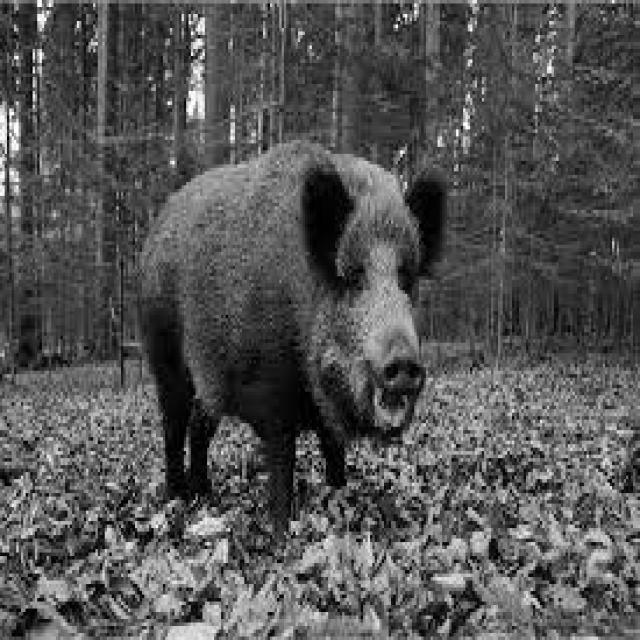boar: (140, 143, 449, 533)
